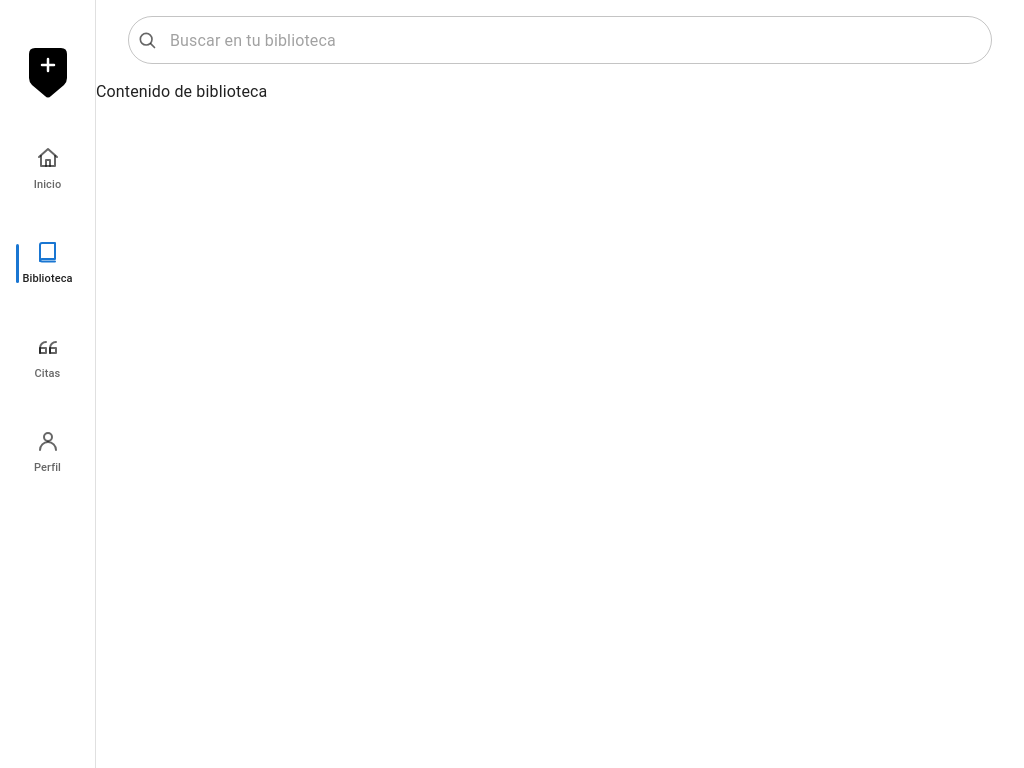
Test: Given the add book flow › When no provider knows the ISBN › Then it says no book was found
This screenshot has width=1024, height=768.
Click the button named "Añadir libro" at (48, 73), box [4,48,90,98]
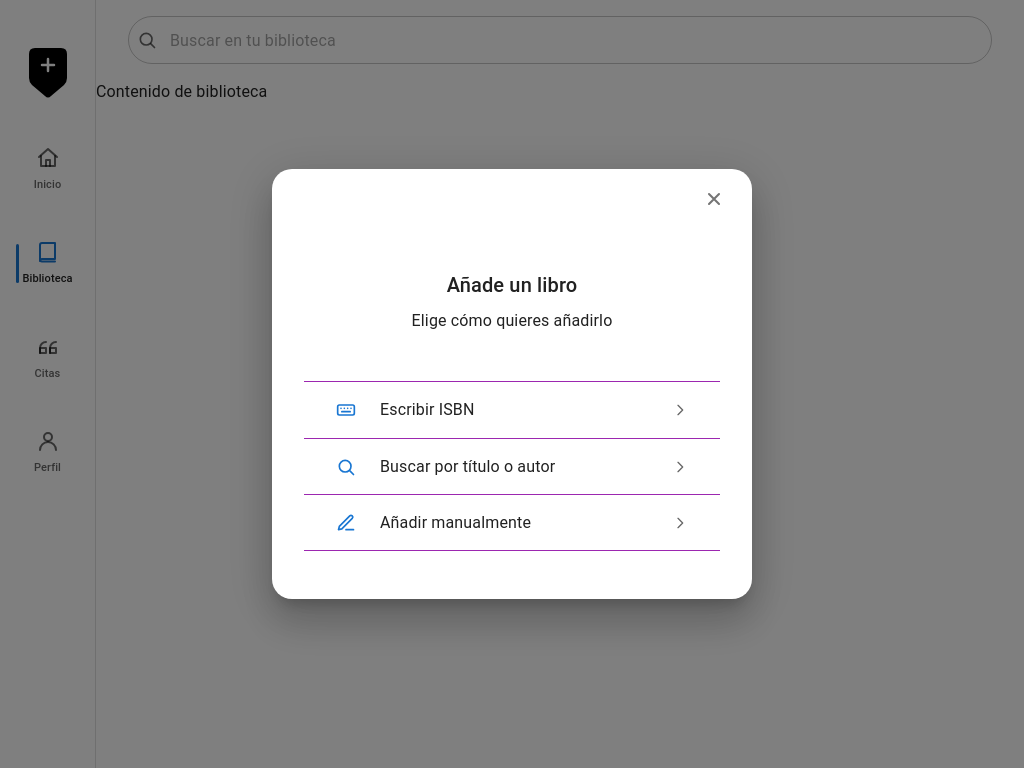
Click the button "Escribir ISBN" at (427, 410), box [304,382,720,438]
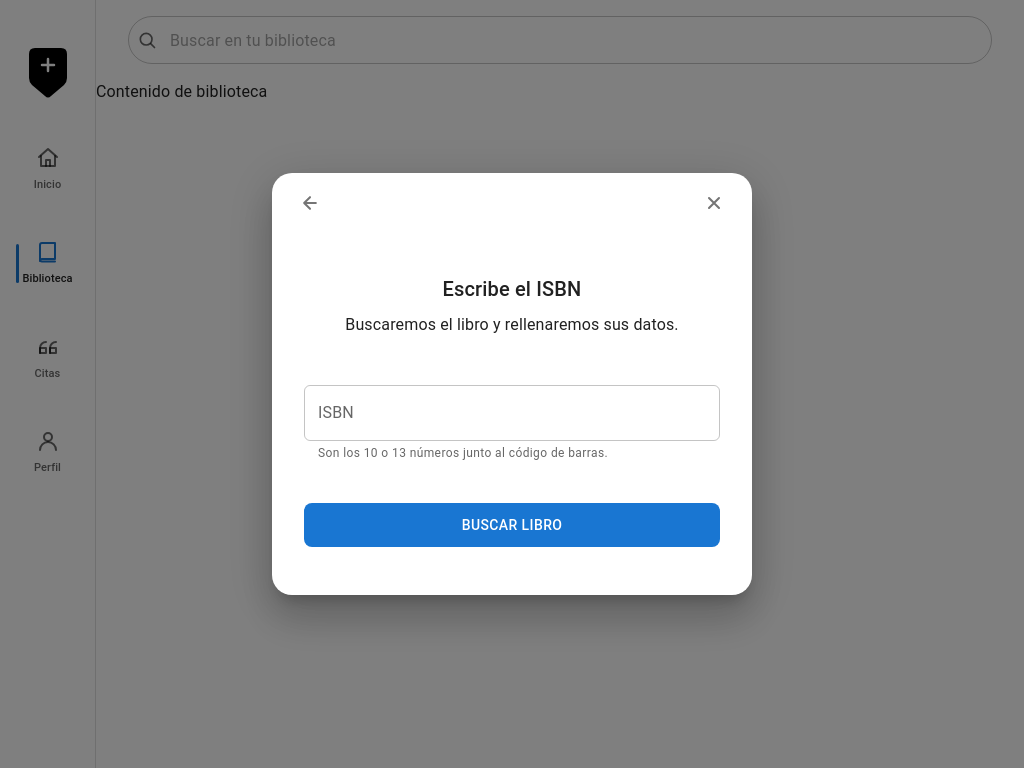
Type "978-84-376-0494-7" into the field labelled "ISBN" at (512, 412), box [304,384,720,440]
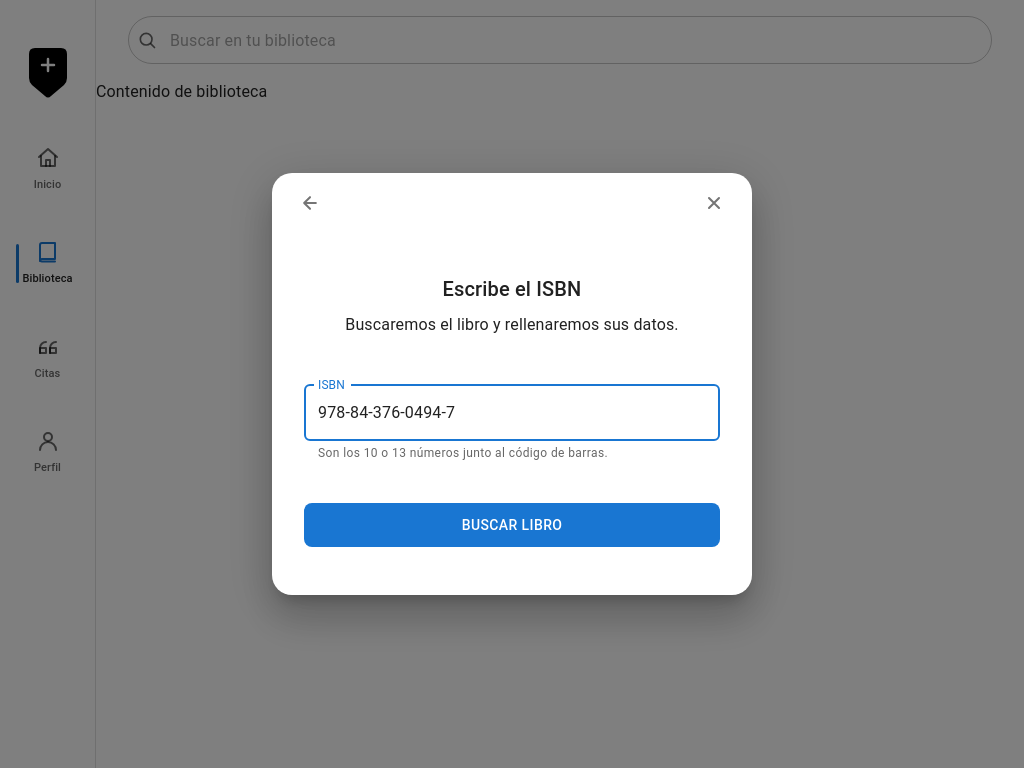
Click the button "Buscar libro" at (512, 526), box [304,504,720,548]
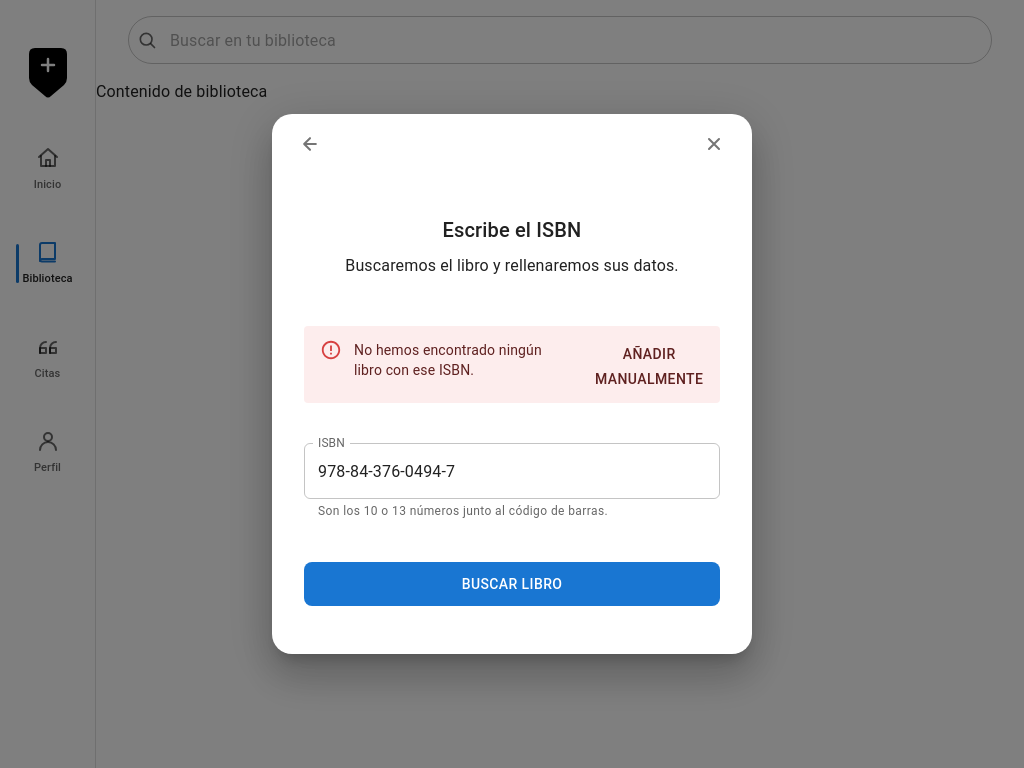
Expected: the message shows "No hemos encontrado ningún libro con ese ISBN.", [354,342,542,378]
